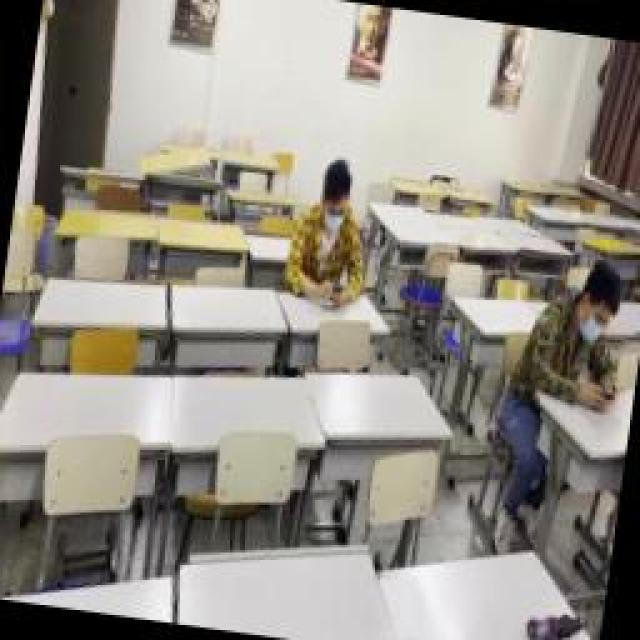phone: (537, 255, 635, 410), (282, 157, 380, 305)
